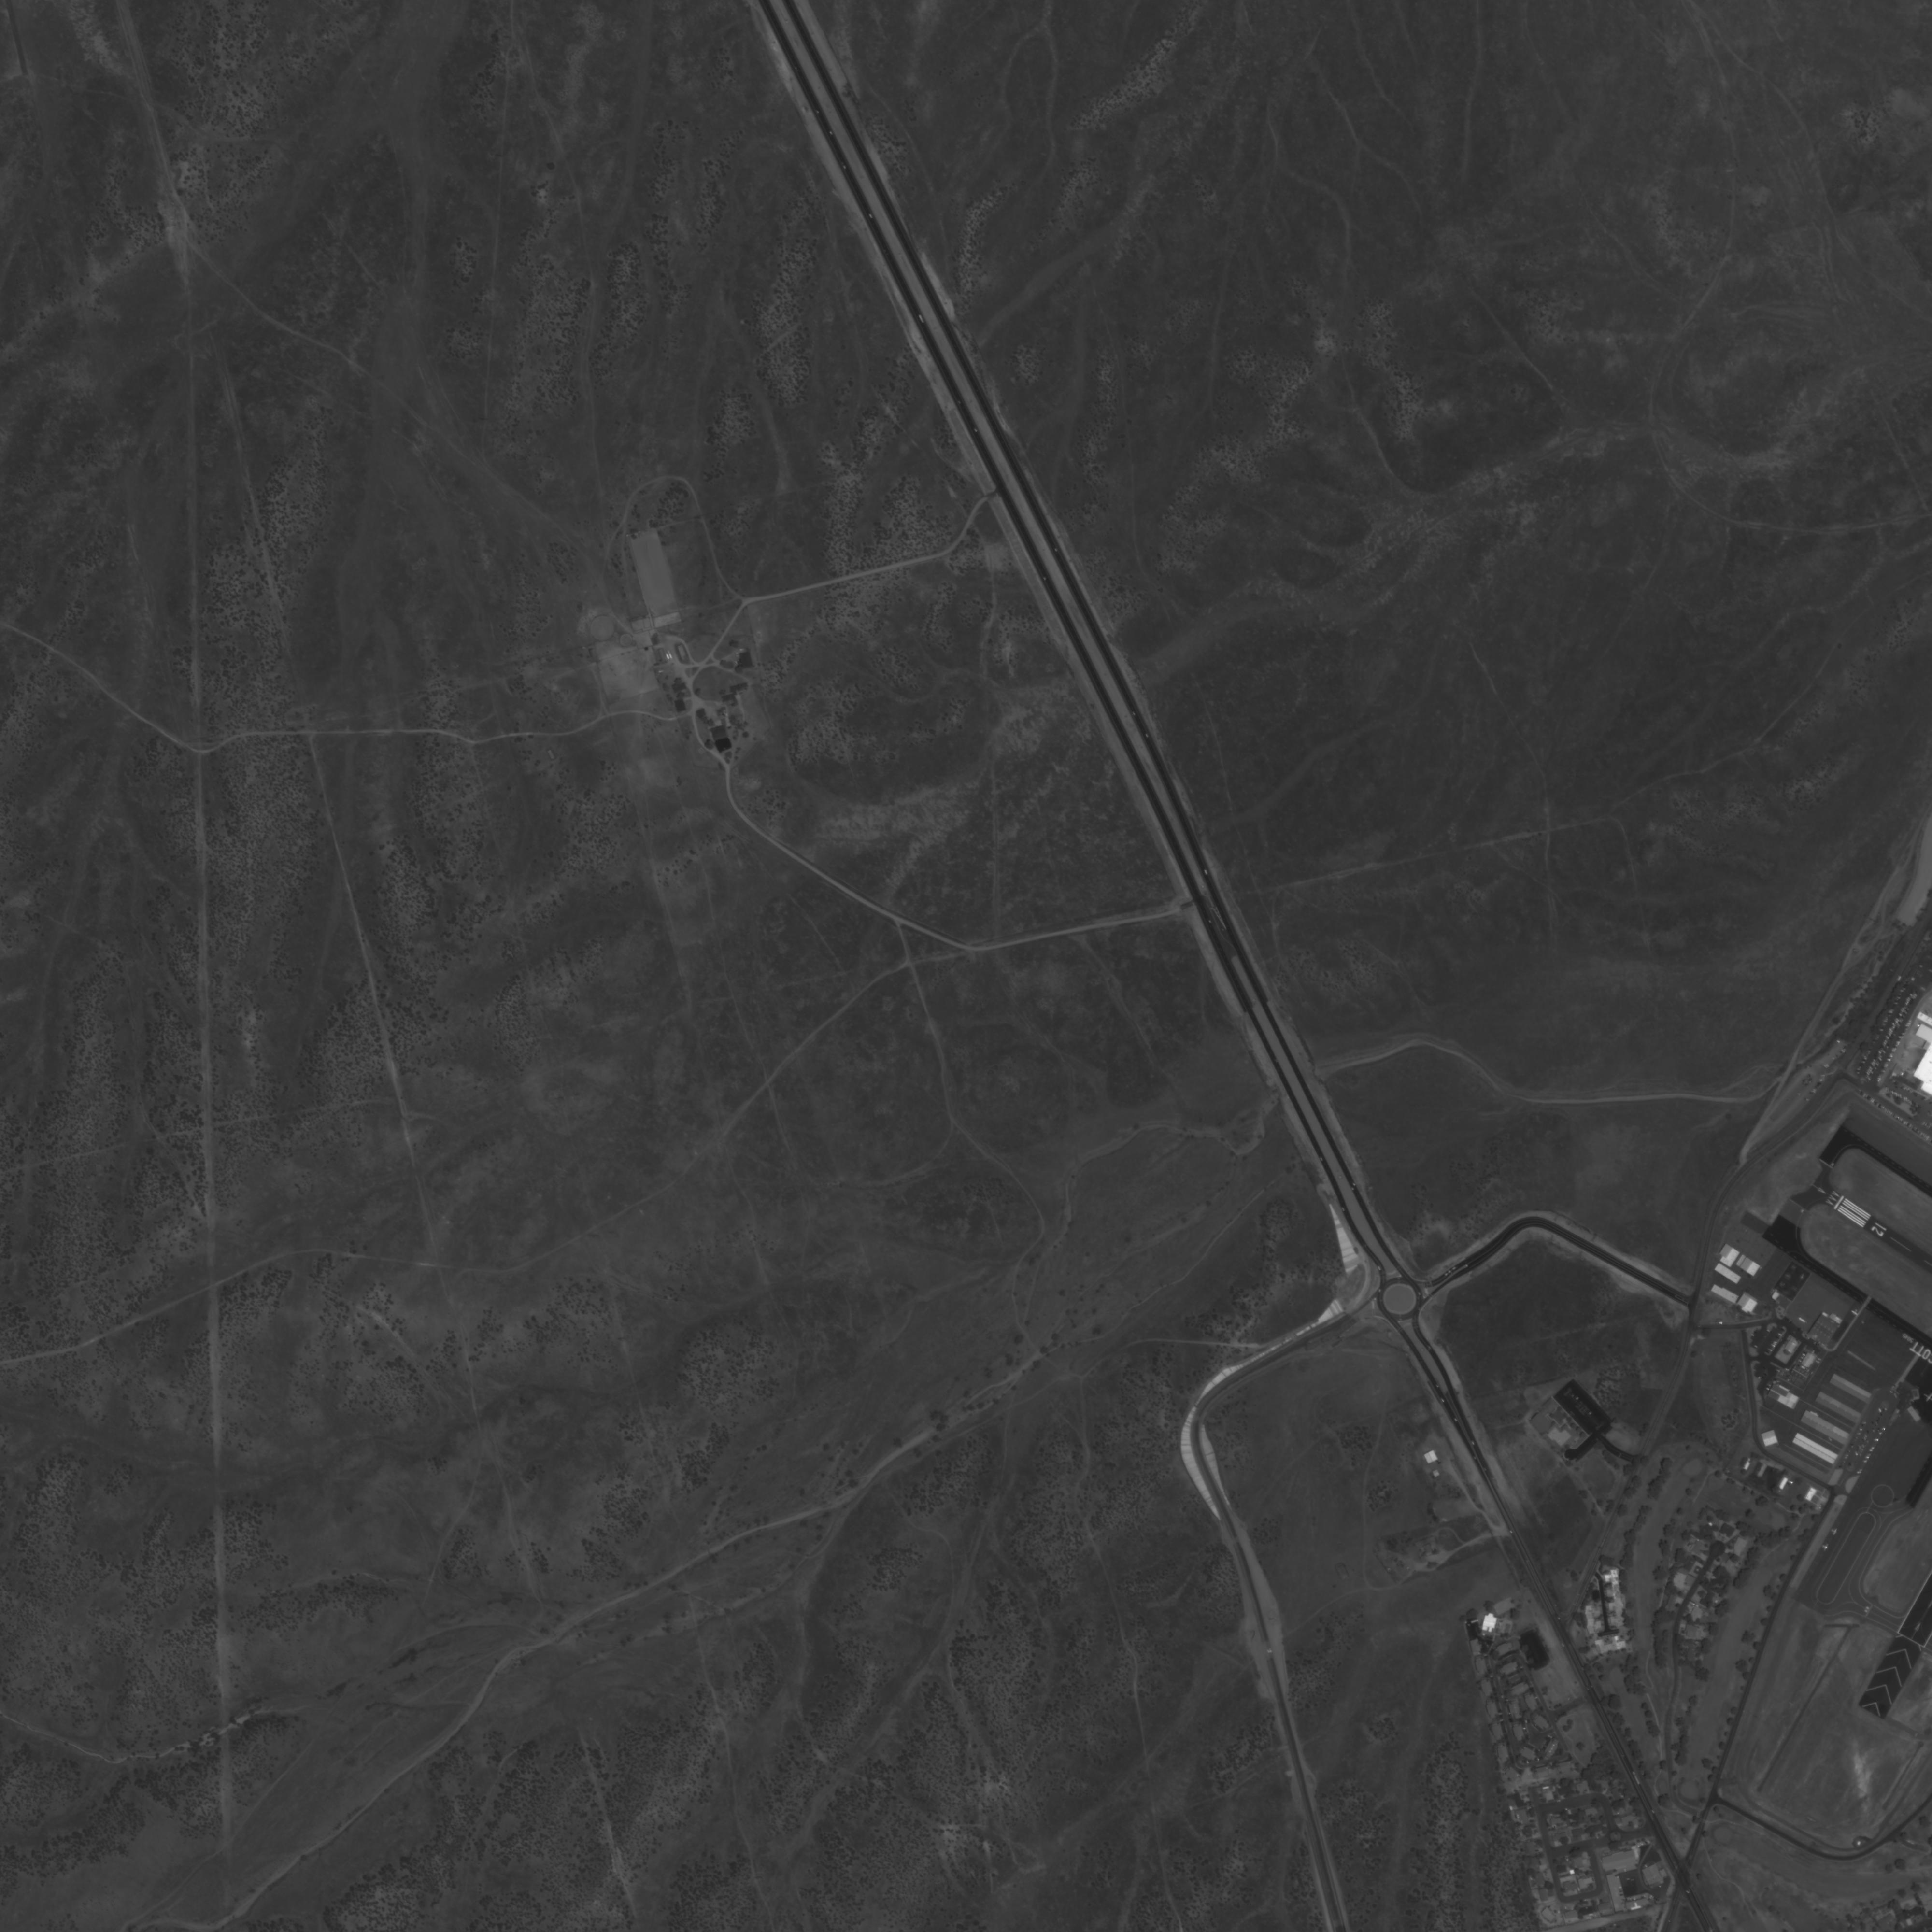plane: (1819, 1541, 1829, 1553), (1828, 1525, 1838, 1537)
